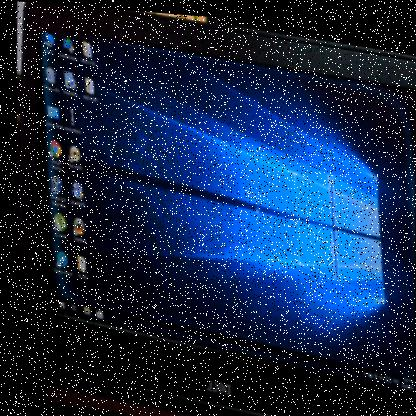fade: (6, 28, 415, 410)
